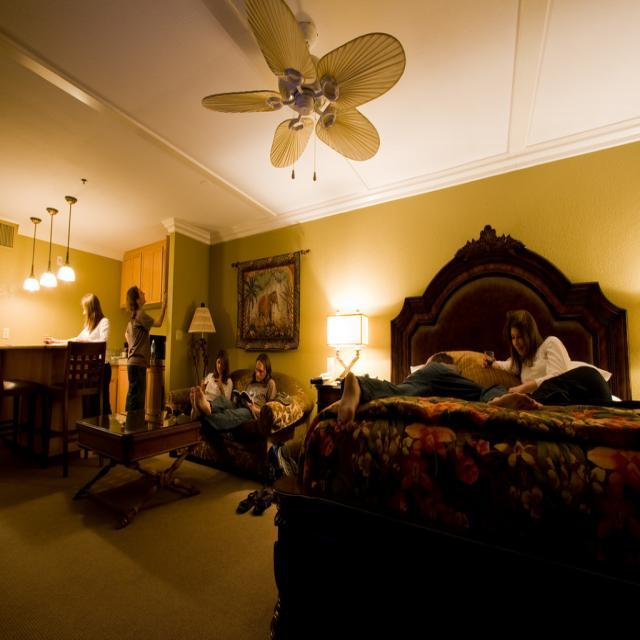bulb_on: (58, 266, 78, 286), (40, 270, 61, 289), (27, 282, 41, 294)
fan_off: (203, 0, 399, 171)
